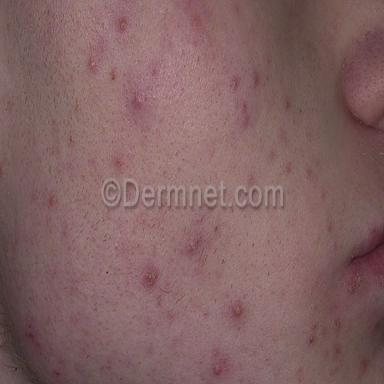acne: (212, 350, 227, 375), (143, 265, 158, 288), (187, 232, 203, 253), (349, 272, 364, 293), (132, 92, 143, 108), (191, 15, 202, 31), (242, 103, 249, 126), (359, 359, 369, 372), (333, 318, 342, 331), (233, 304, 242, 316), (88, 57, 96, 69), (334, 344, 341, 357), (150, 66, 157, 77), (120, 19, 127, 30), (304, 169, 311, 180), (110, 70, 117, 80), (233, 80, 239, 90), (286, 162, 291, 173), (115, 158, 121, 167), (308, 336, 313, 346), (253, 76, 259, 84), (286, 100, 290, 109)
